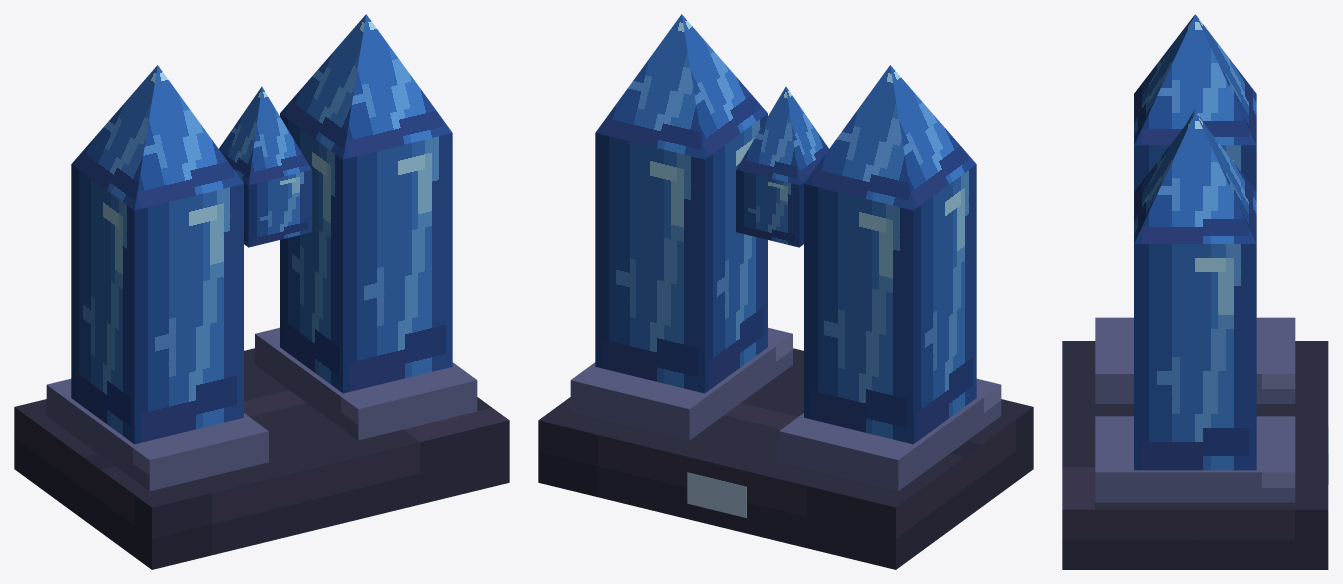
Rendered from gateway_crystal.obj.
3 views of the same model, side by side, from view 1: azimuth 30°, elevation 25°; view 2: azimuth 150°, elevation 25°; view 3: azimuth 270°, elevation 25° (orthographic). The views are drawn at different scales.
Visible parts, largest first — view 1: Left tall point, Right tall point, Gateway foot, Left anchor, Right anchor, Suspended linking point; view 2: Left tall point, Right tall point, Gateway foot, Left anchor, Right anchor, Suspended linking point, Channel inlay; view 3: Right tall point, Gateway foot, Left tall point, Right anchor, Left anchor.
Boxes of the visible parts, box(x1,y1,x2,y2) form: Left tall point: box(71, 65, 243, 444); Right tall point: box(280, 14, 452, 393); Gateway foot: box(14, 348, 509, 569); Left anchor: box(46, 378, 268, 491); Right anchor: box(255, 327, 477, 440); Suspended linking point: box(219, 86, 311, 247); Left tall point: box(804, 65, 976, 444); Right tall point: box(595, 14, 767, 393); Gateway foot: box(538, 348, 1033, 569); Left anchor: box(779, 378, 1001, 491); Right anchor: box(570, 327, 792, 440); Suspended linking point: box(736, 86, 828, 247); Channel inlay: box(687, 472, 746, 517); Right tall point: box(1134, 112, 1256, 470); Gateway foot: box(1062, 341, 1328, 569); Left tall point: box(1134, 14, 1256, 191); Right anchor: box(1095, 416, 1295, 502); Left anchor: box(1095, 317, 1295, 403).
Size of the model in its own units: 0.75 by 0.875 by 0.5006.
